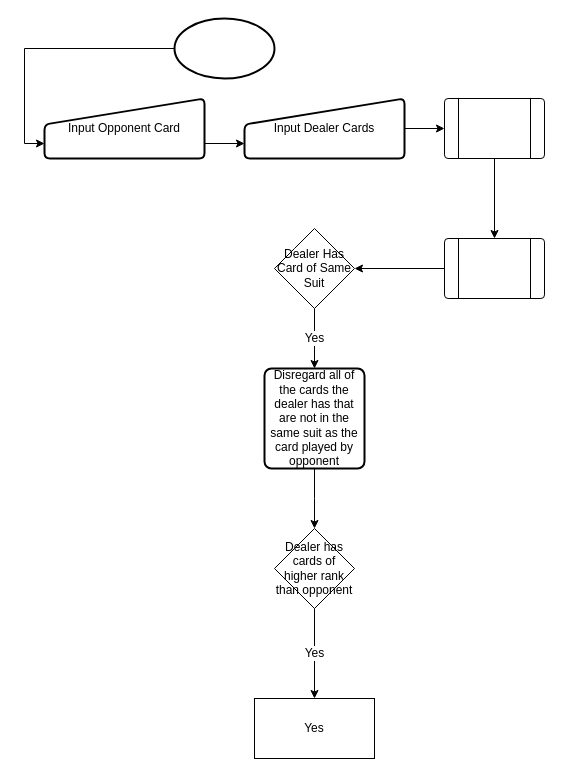
This 562x776 diagram has some shape labels left out. The box of each missing label's shape, as (x1, y1, x2, y2) in pixels:
Compare Opponent Card: (444, 238, 544, 298)
Make Card List: (444, 98, 544, 158)
Start Program: (173, 17, 275, 79)
